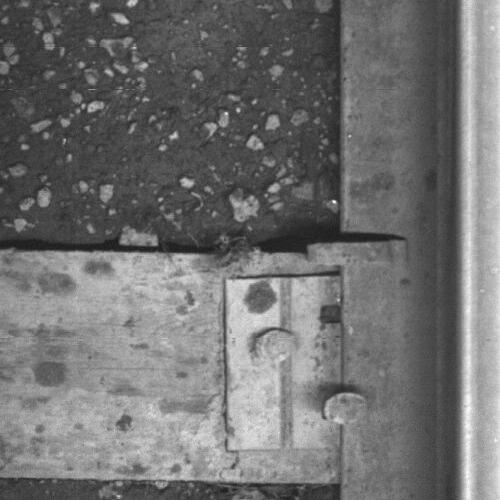crutch: (306, 237, 409, 265)
do: (221, 274, 371, 451)
hole_do: (311, 295, 357, 331)
rail: (456, 1, 500, 500)
tie_wood: (1, 247, 343, 484)
